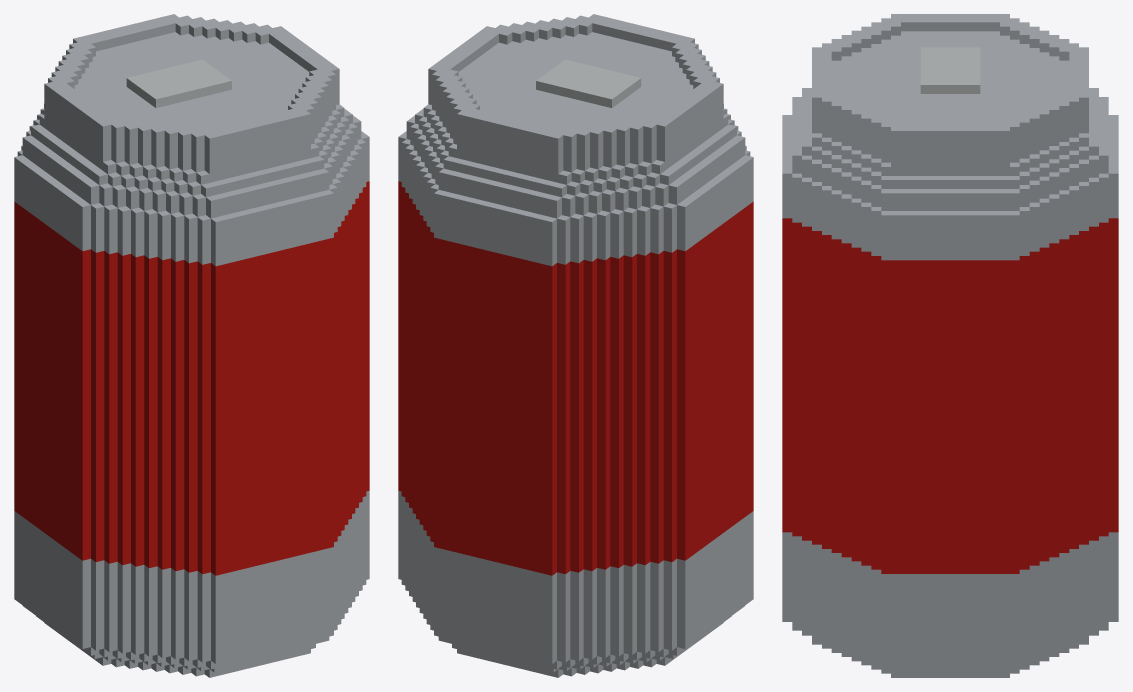
The model's file is can_drink.glb.
The picture shows the model from 3 angles, left to right: view 1: azimuth 30°, elevation 25°; view 2: azimuth 150°, elevation 25°; view 3: azimuth 270°, elevation 25°; orthographic projection.
Visible parts, largest first — view 1: can_drink:compound; view 2: can_drink:compound; view 3: can_drink:compound.
Boxes of the visible parts, x1=… form: can_drink:compound: x1=14, y1=14, x2=369, y2=677; can_drink:compound: x1=398, y1=14, x2=753, y2=677; can_drink:compound: x1=782, y1=14, x2=1118, y2=677.
Bounding box in the file's own units: 0.068 × 0.122 × 0.068.
